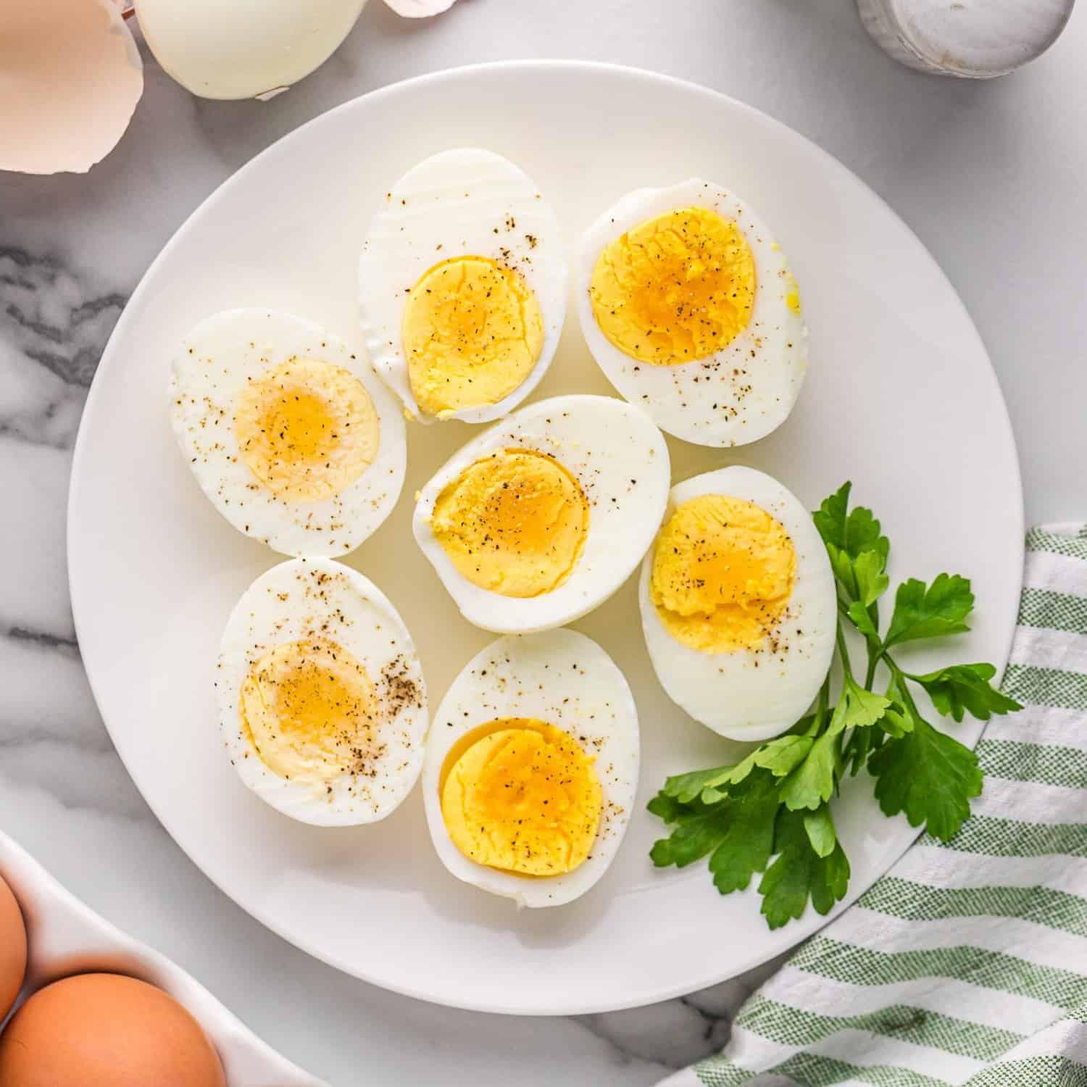eggs: (225, 153, 848, 954)
